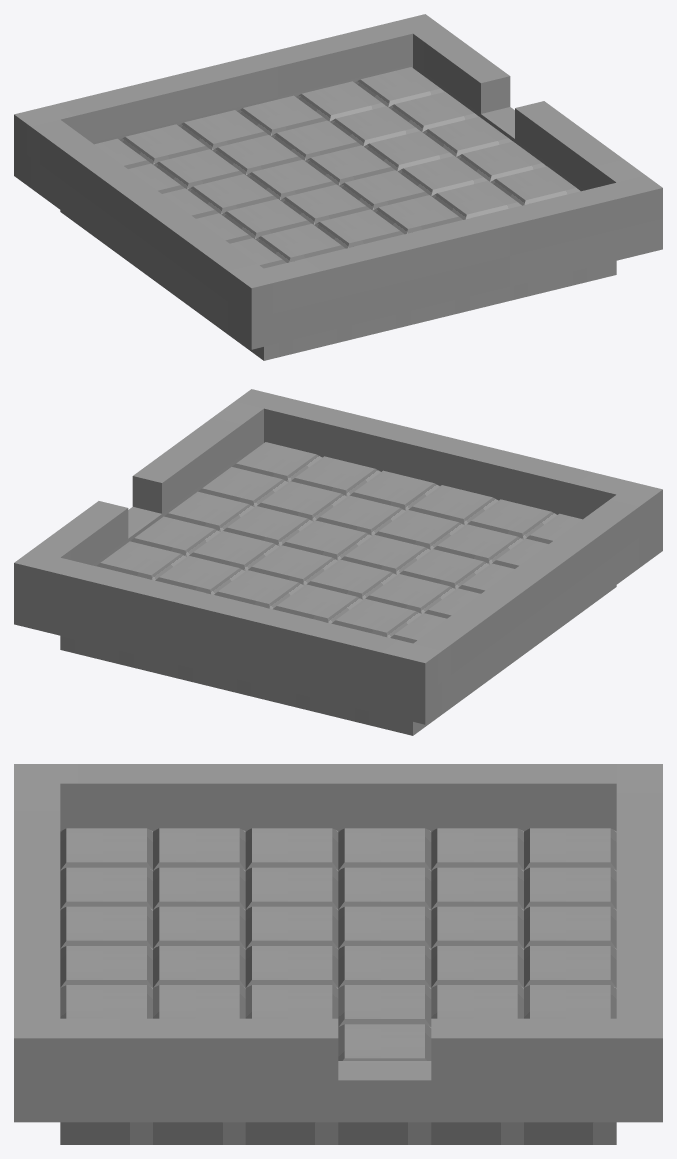
File: Grid_Board.obj
The picture shows the model from 3 angles, top to bottom: view 1: azimuth 30°, elevation 25°; view 2: azimuth 150°, elevation 25°; view 3: azimuth 270°, elevation 25°; orthographic projection. The views are drawn at different scales.
Visible parts, largest first — view 1: Cube.008, Cube.004, Cube.011; view 2: Cube.008, Cube.004, Cube.011; view 3: Cube.008, Cube.004.
Part boxes in pixels (<box>): Cube.008: <box>14,14,662,349</box>; Cube.004: <box>60,67,616,360</box>; Cube.011: <box>481,76,510,113</box>; Cube.008: <box>14,389,662,724</box>; Cube.004: <box>60,442,616,735</box>; Cube.011: <box>132,476,161,513</box>; Cube.008: <box>14,764,662,1122</box>; Cube.004: <box>60,828,616,1144</box>.
Size of the model in its own units: 14 by 3 by 14.
